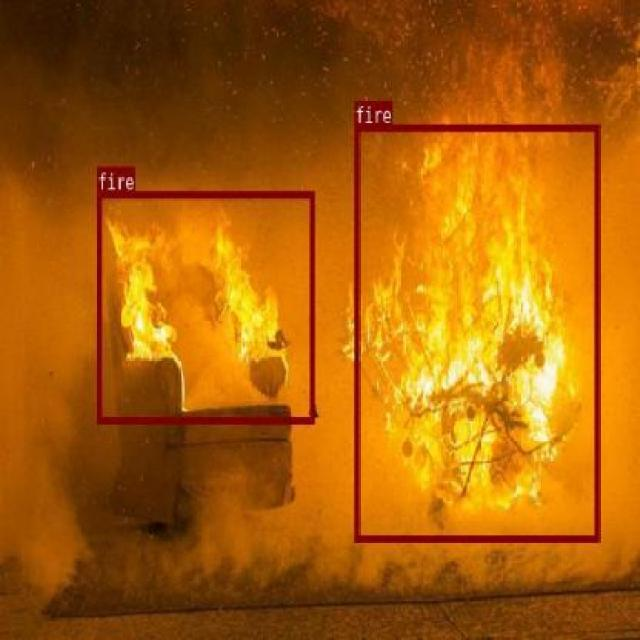Fire: (354, 123, 598, 540), (96, 190, 313, 422)
